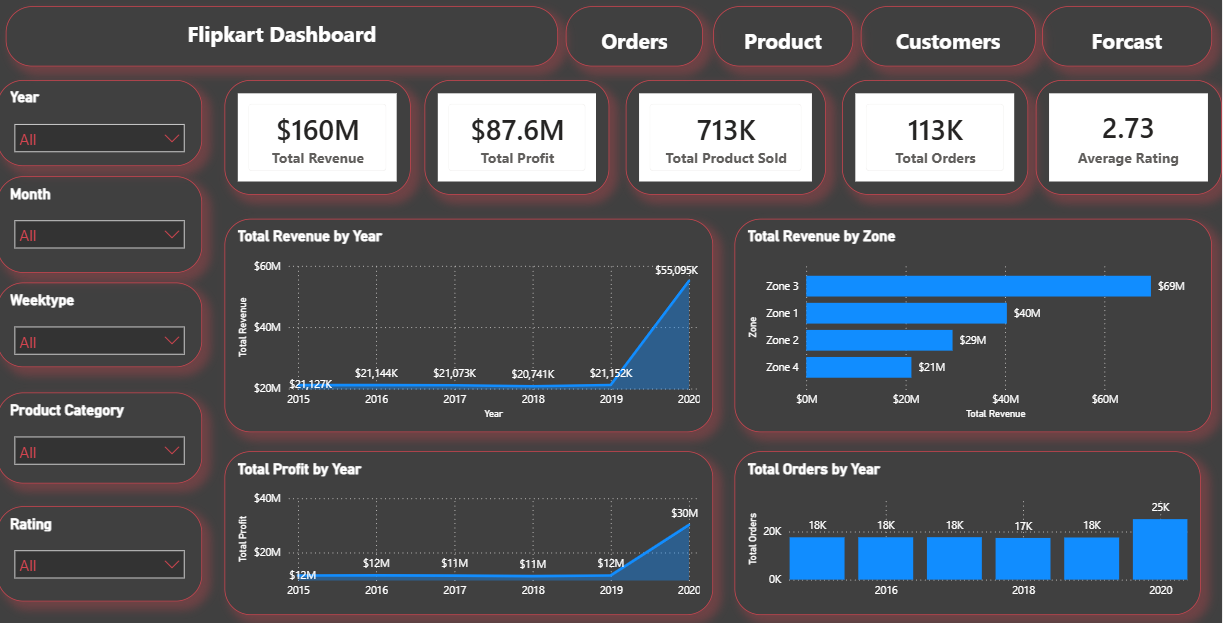

This screenshot's page, from the dashboard's own definition file:
{"tool":"powerbi","page":{"name":"Dashboard","canvas":[1400,720],"ordinal":1},"visuals":[{"type":"textbox","box":[10,12.9,631.4,68.6],"z":0},{"type":"slicer","title":"Year","fields":{"Values":["Calendar Table.Year"]},"box":[0,97.1,234.3,98.6],"z":1000},{"type":"slicer","title":"Month","fields":{"Values":["Calendar Table.Month Name"]},"box":[0,207.1,234.3,110],"z":2000},{"type":"slicer","title":"Weektype","fields":{"Values":["Calendar Table.Weekname"]},"box":[0,328.6,234.3,97.1],"z":3000},{"type":"slicer","title":"Product Category","fields":{"Values":["Product Category.Product Category"]},"box":[0,454.3,234.3,104.3],"z":4000},{"type":"slicer","title":"Rating","fields":{"Values":["Fact Data.Rating"]},"box":[0,584.3,234.3,108.6],"z":5000},{"type":"cardVisual","title":"Total Revenue","fields":{"Data":["All Measure.Total Revenue"]},"box":[260,97.1,212.9,131.4],"z":6000},{"type":"areaChart","fields":{"Category":["Calendar Table.Date.Variation.Date Hierarchy.Year"],"Y":["All Measure.Total Revenue"]},"box":[260,255.7,558.6,244.3],"z":7000},{"type":"cardVisual","title":"Total Revenue","fields":{"Data":["All Measure.Total Profit"]},"box":[488.6,97.1,211.4,131.4],"z":8000},{"type":"cardVisual","title":"Total Revenue","fields":{"Data":["All Measure.Total Product Sold"]},"box":[718.6,97.1,228.6,131.4],"z":9000},{"type":"cardVisual","title":"Total Revenue","fields":{"Data":["All Measure.Total Orders"]},"box":[965.7,97.1,212.9,131.4],"z":10000},{"type":"cardVisual","title":"Total Revenue","fields":{"Data":["All Measure.Average Rating"]},"box":[1187.1,97.1,212.9,131.4],"z":11000},{"type":"clusteredBarChart","fields":{"Y":["All Measure.Total Revenue"],"Category":["Fact Data.Zone"]},"box":[842.9,255.7,545.7,244.3],"z":12000},{"type":"clusteredColumnChart","fields":{"Y":["All Measure.Total Orders"],"Category":["Calendar Table.Date.Variation.Date Hierarchy.Year"]},"box":[842.9,521.4,532.9,187.1],"z":13000},{"type":"areaChart","fields":{"Y":["All Measure.Total Profit"],"Category":["Calendar Table.Date.Variation.Date Hierarchy.Year"]},"box":[260,521.4,558.6,187.1],"z":14000},{"type":"actionButton","title":"Orders","box":[650,12.9,157.1,68.6],"z":15000},{"type":"actionButton","title":"Product","box":[818.6,12.9,160,68.6],"z":16000},{"type":"actionButton","title":"Customers","box":[987.1,12.9,200,68.6],"z":17000},{"type":"actionButton","title":"Forcast","box":[1194.3,12.9,194.3,68.6],"z":18000}]}

Visuals, with their boxes in screenshot pixels (x1, y1, x2, y2), scaled from the page's 1400x720 canvas onto the 1223x623 screenshot:
textbox: {"x1": 9, "y1": 11, "x2": 560, "y2": 71}
"Year" slicer: {"x1": 0, "y1": 84, "x2": 205, "y2": 169}
"Month" slicer: {"x1": 0, "y1": 179, "x2": 205, "y2": 274}
"Weektype" slicer: {"x1": 0, "y1": 284, "x2": 205, "y2": 368}
"Product Category" slicer: {"x1": 0, "y1": 393, "x2": 205, "y2": 483}
"Rating" slicer: {"x1": 0, "y1": 506, "x2": 205, "y2": 600}
"Total Revenue" cardVisual: {"x1": 227, "y1": 84, "x2": 413, "y2": 198}
areaChart - Calendar Table.Date.Variation.Date Hierarchy.Year x All Measure.Total Revenue: {"x1": 227, "y1": 221, "x2": 715, "y2": 433}
"Total Revenue" cardVisual: {"x1": 427, "y1": 84, "x2": 612, "y2": 198}
"Total Revenue" cardVisual: {"x1": 628, "y1": 84, "x2": 827, "y2": 198}
"Total Revenue" cardVisual: {"x1": 844, "y1": 84, "x2": 1030, "y2": 198}
"Total Revenue" cardVisual: {"x1": 1037, "y1": 84, "x2": 1222, "y2": 198}
clusteredBarChart - All Measure.Total Revenue x Fact Data.Zone: {"x1": 736, "y1": 221, "x2": 1213, "y2": 433}
clusteredColumnChart - All Measure.Total Orders x Calendar Table.Date.Variation.Date Hierarchy.Year: {"x1": 736, "y1": 451, "x2": 1202, "y2": 613}
areaChart - All Measure.Total Profit x Calendar Table.Date.Variation.Date Hierarchy.Year: {"x1": 227, "y1": 451, "x2": 715, "y2": 613}
"Orders" actionButton: {"x1": 568, "y1": 11, "x2": 705, "y2": 71}
"Product" actionButton: {"x1": 715, "y1": 11, "x2": 855, "y2": 71}
"Customers" actionButton: {"x1": 862, "y1": 11, "x2": 1037, "y2": 71}
"Forcast" actionButton: {"x1": 1043, "y1": 11, "x2": 1213, "y2": 71}
